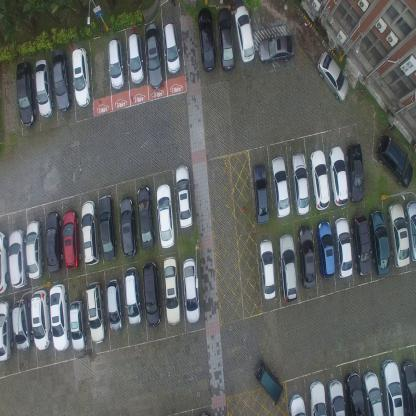car: (375, 134, 413, 190), (317, 50, 349, 103), (276, 234, 298, 303), (48, 282, 70, 351), (387, 202, 410, 266), (369, 209, 390, 277), (380, 358, 404, 416), (85, 279, 106, 345), (253, 358, 283, 404), (144, 21, 164, 90), (15, 61, 36, 126), (350, 214, 372, 276), (30, 289, 52, 351), (97, 194, 117, 261), (155, 184, 175, 250), (142, 260, 162, 326), (80, 200, 100, 266), (309, 148, 330, 210), (296, 225, 316, 289), (234, 4, 255, 64), (216, 7, 235, 73), (197, 7, 216, 73), (270, 155, 290, 217), (51, 48, 71, 110), (8, 228, 28, 290), (182, 257, 200, 325), (333, 216, 353, 277), (328, 145, 348, 206), (71, 47, 91, 108), (136, 186, 155, 250), (119, 195, 138, 259), (163, 255, 180, 326), (291, 151, 310, 214), (251, 163, 270, 225), (257, 34, 295, 65), (34, 57, 53, 119), (62, 209, 81, 271), (11, 299, 33, 352), (345, 143, 364, 204), (44, 210, 62, 274), (316, 220, 335, 280), (258, 237, 276, 300), (176, 164, 193, 228), (124, 266, 142, 326), (26, 219, 44, 279), (162, 21, 181, 76), (344, 370, 366, 416), (362, 370, 384, 416), (106, 277, 124, 333), (68, 299, 87, 352), (108, 37, 125, 91), (400, 359, 416, 415), (0, 299, 14, 363), (128, 31, 144, 85), (327, 378, 346, 416), (405, 199, 416, 263), (309, 380, 327, 415), (0, 230, 8, 294), (288, 390, 307, 415)
